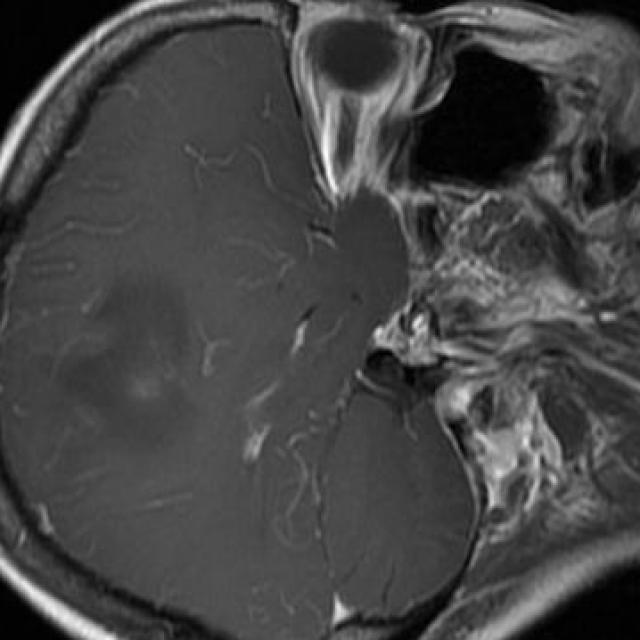glioma: (61, 280, 191, 451)
